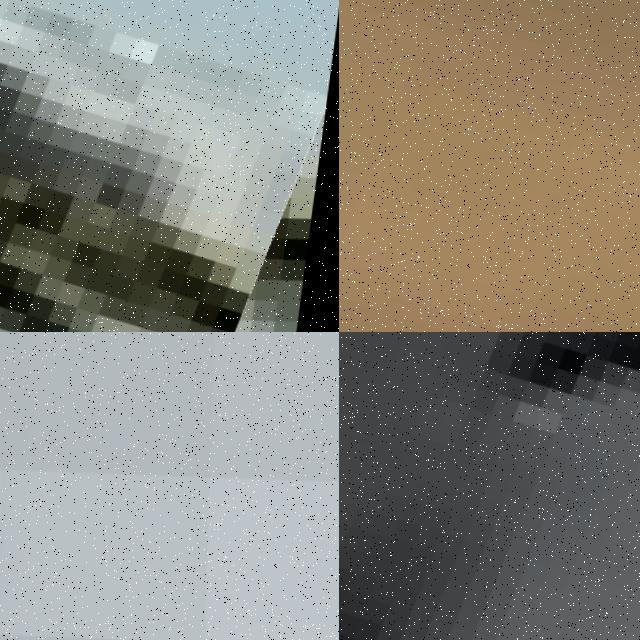drone: (0, 0, 339, 332), (339, 0, 640, 332), (339, 332, 640, 640)
